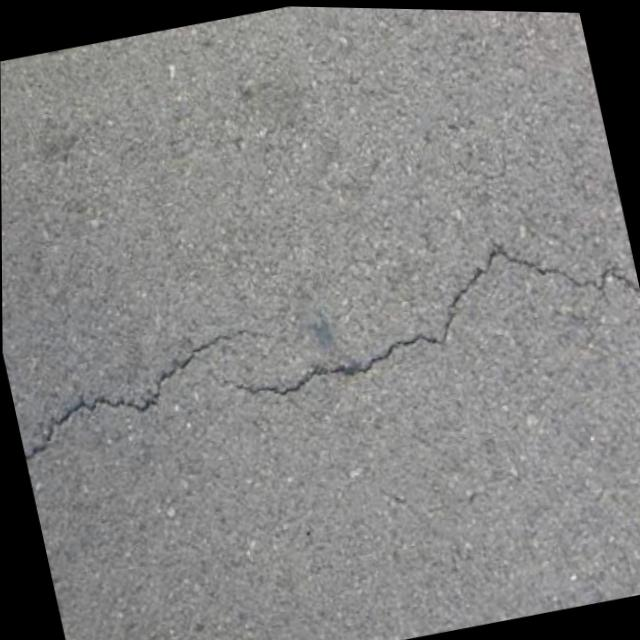Crack: (1, 179, 640, 485)
